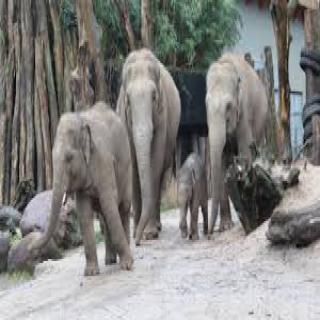Elephant: (37, 103, 136, 282), (116, 50, 184, 255), (204, 48, 271, 244), (176, 144, 211, 248)
